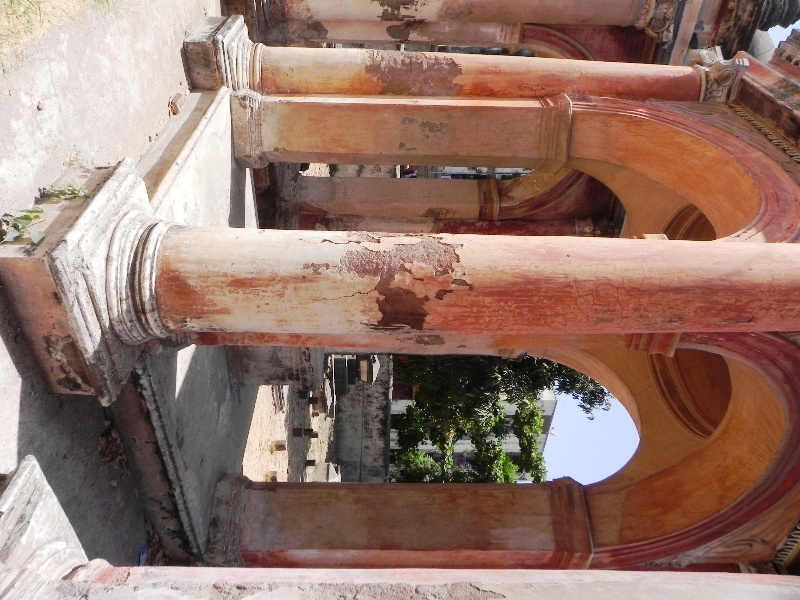Spalling: (314, 230, 478, 335), (33, 572, 512, 597), (360, 47, 473, 98), (406, 114, 454, 133)
